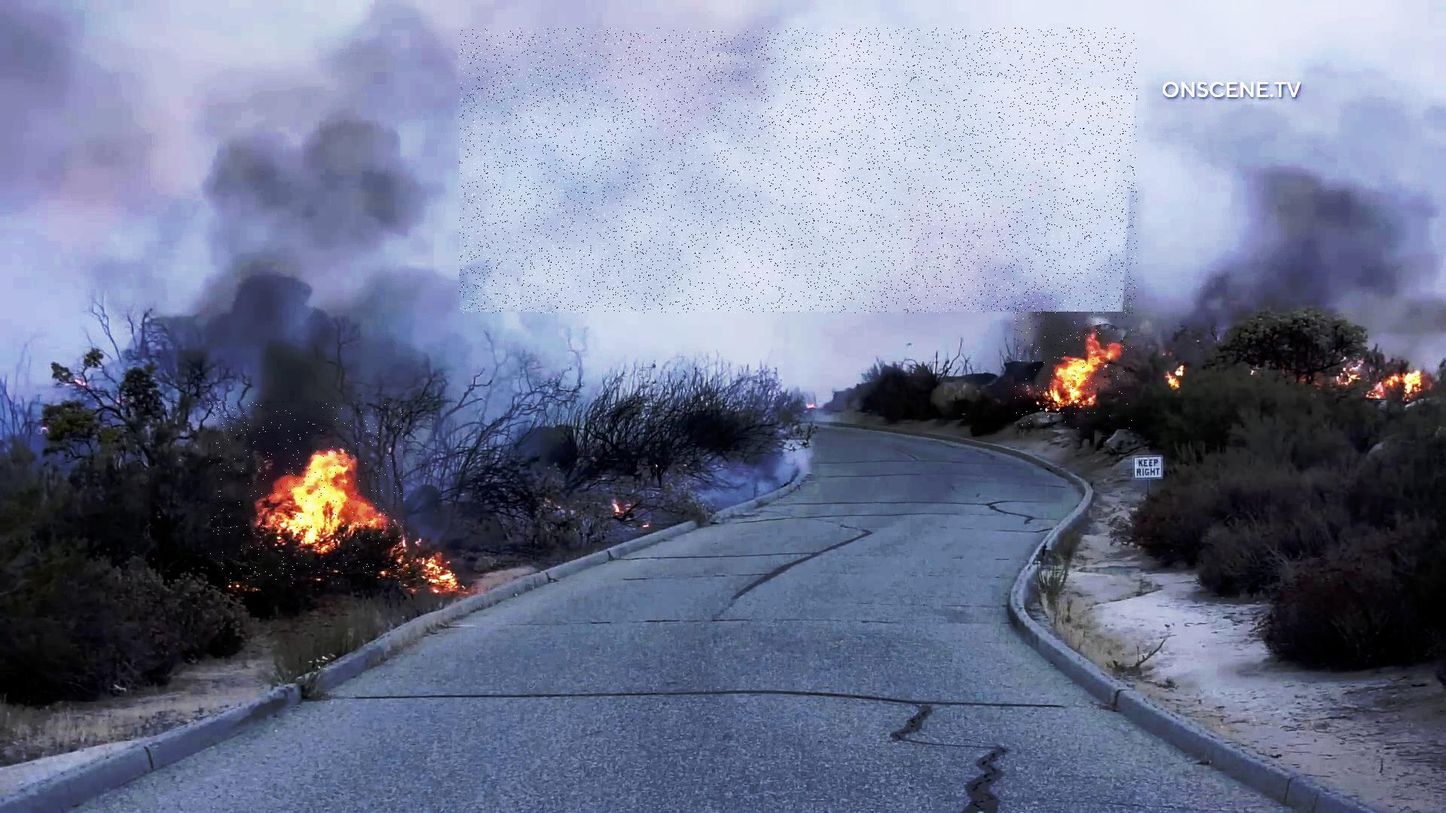fire: (209, 402, 403, 584), (1015, 296, 1133, 429)
smoke: (460, 28, 1138, 314)
